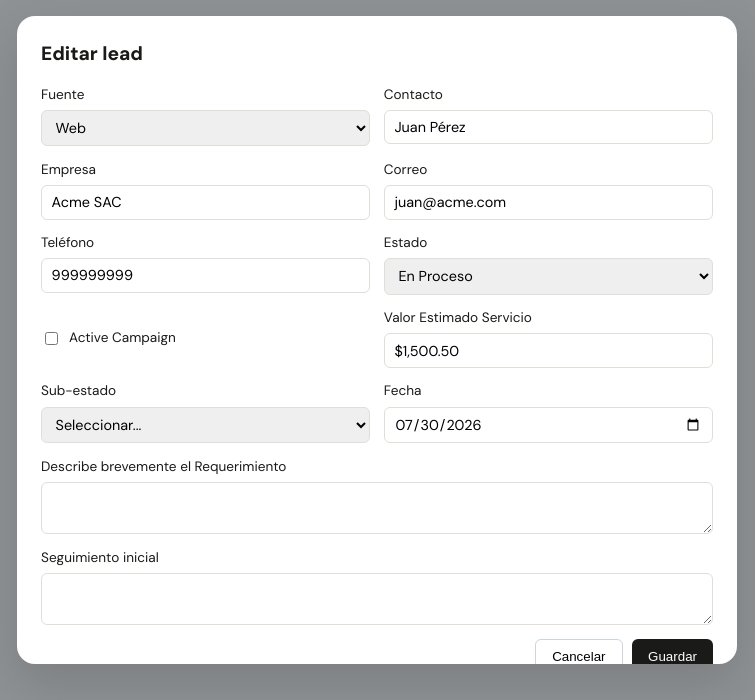
LeadFormModal › campo "Valor Estimado Servicio" (formato moneda USD) › al enfocar el campo, muestra el valor crudo editable (sin formato)
Focus the field labelled "Valor Estimado Servicio": (548, 351) [384,334,713,368]
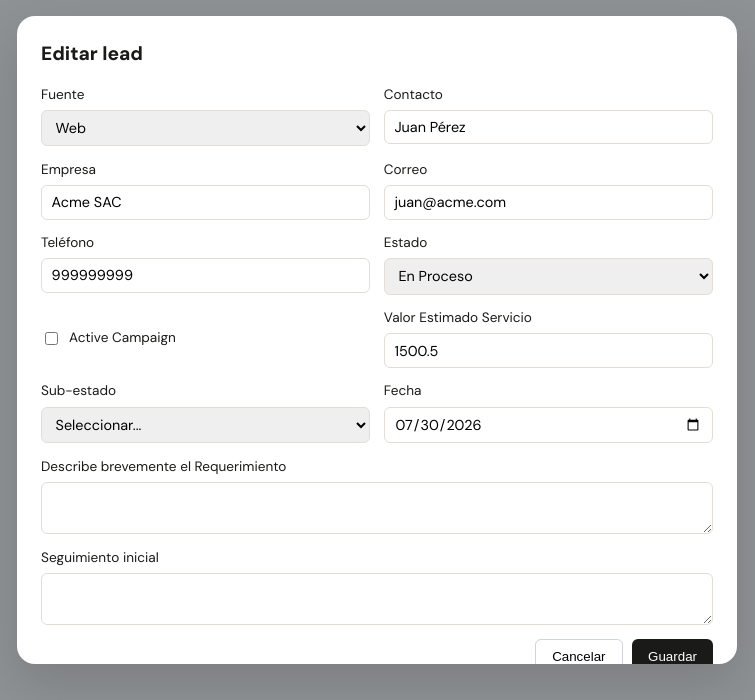
Expected: the field labelled "Valor Estimado Servicio" holds "1500.5", [384,334,713,368]
